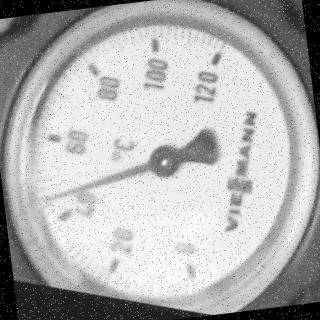gauge: (3, 2, 320, 315), (194, 37, 243, 76), (168, 240, 210, 284), (146, 142, 182, 181), (38, 190, 59, 208)
